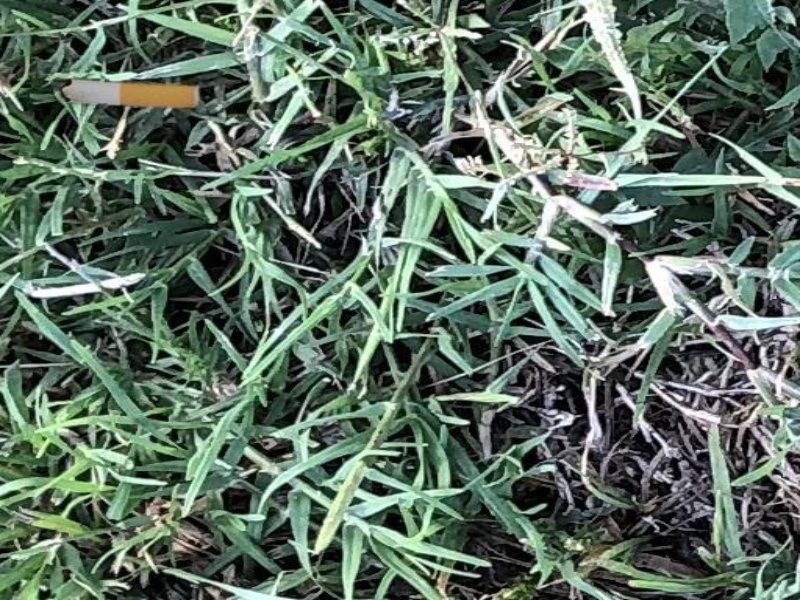cig: (60, 70, 209, 117)
